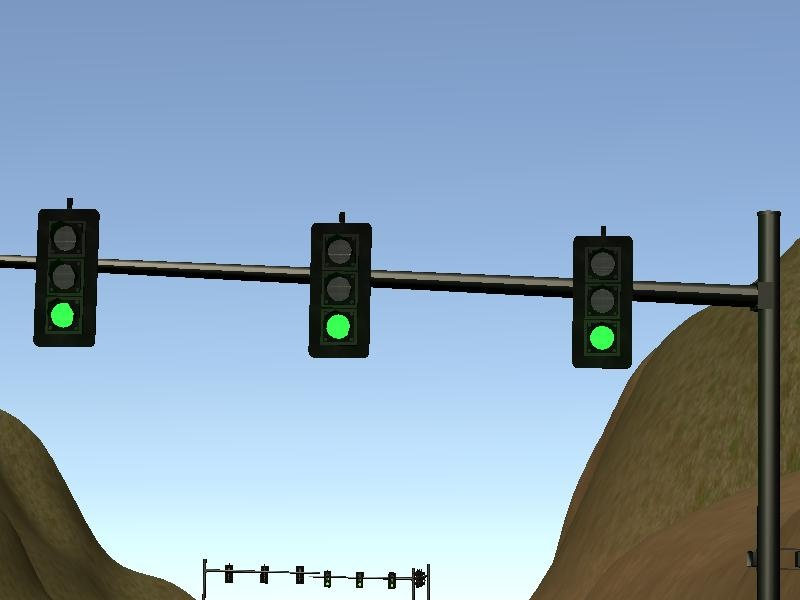green: (303, 218, 375, 362), (566, 232, 639, 371), (33, 205, 100, 349)
